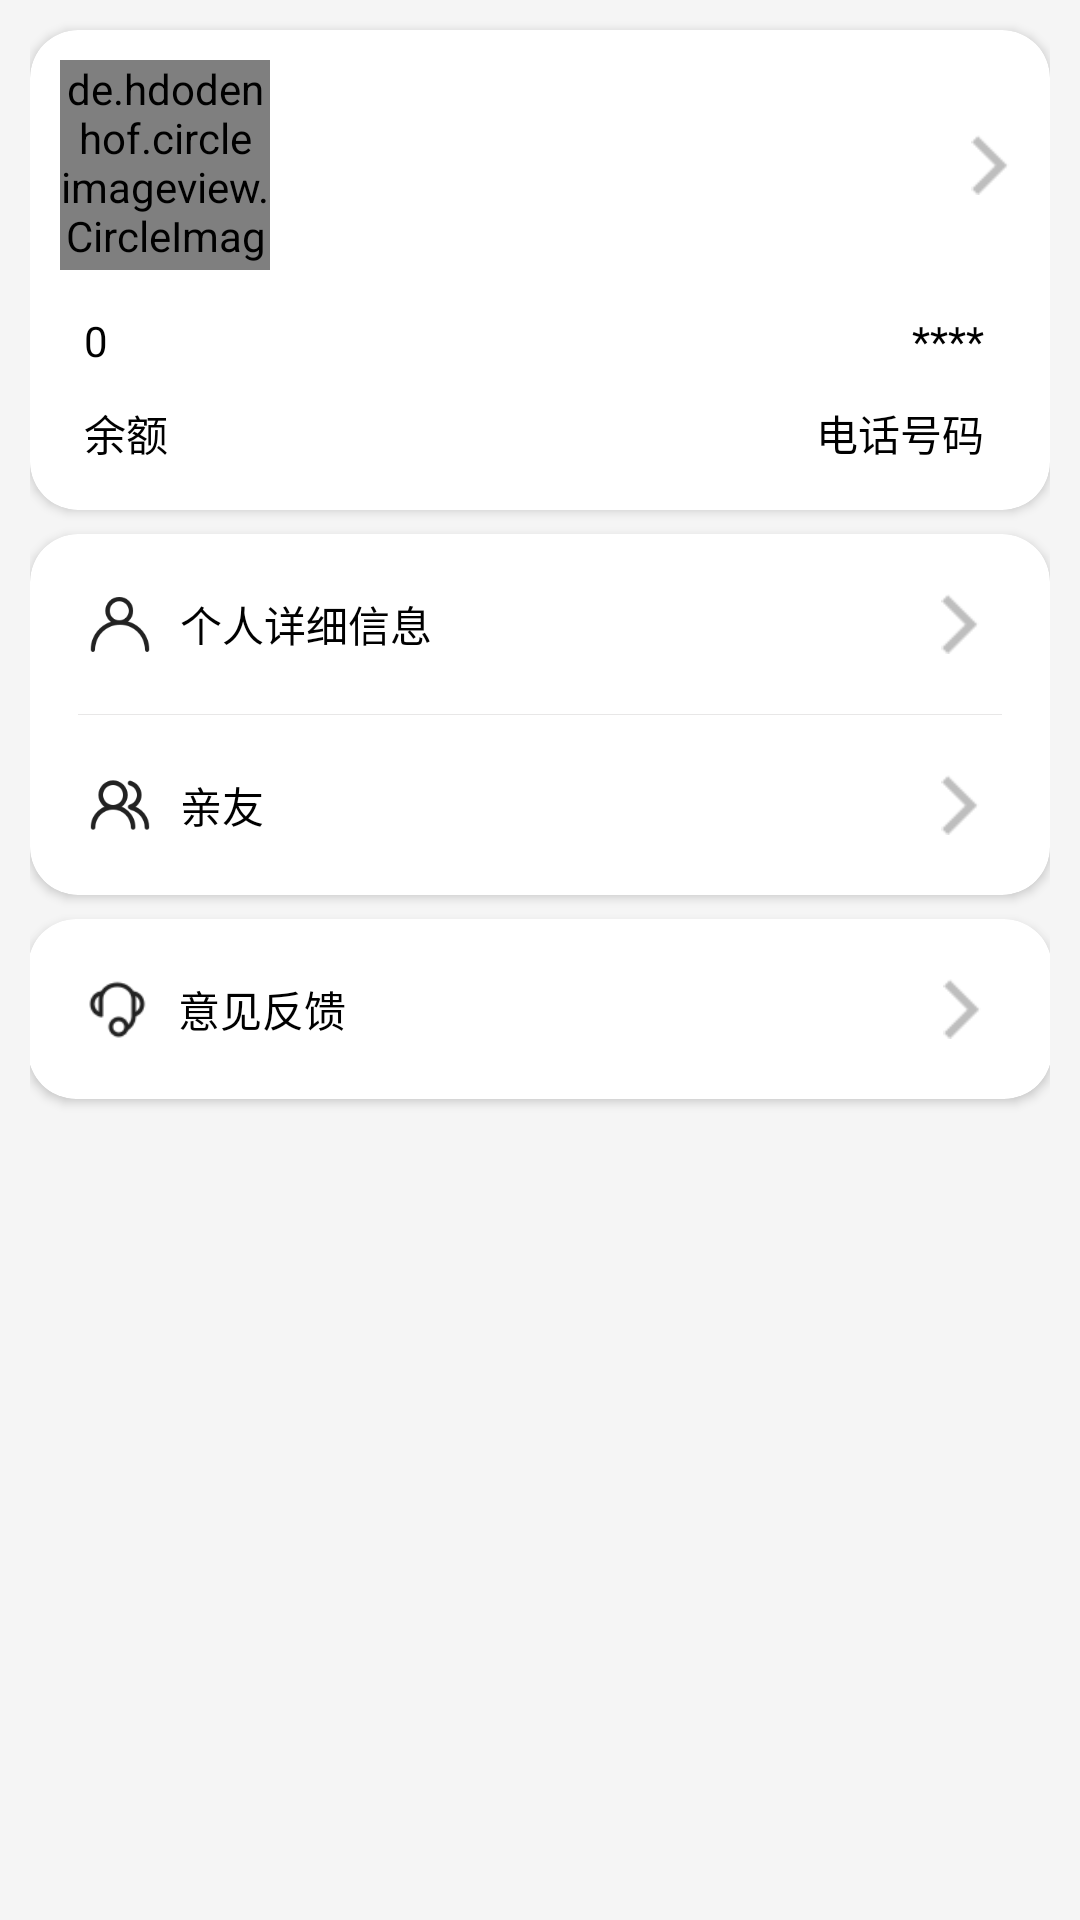

Named icons in this screenshot (1080 x 1920) and their bounding boxes, Rect(x1, y1, x2, y2):
kefu: Rect(89, 981, 146, 1038)
next: Rect(972, 137, 1007, 195), Rect(942, 596, 977, 654), Rect(942, 777, 977, 835), Rect(944, 981, 979, 1039)
person: Rect(90, 597, 150, 652)
relatives: Rect(90, 780, 150, 830)
